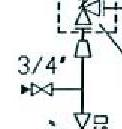psv: (73, 1, 103, 30)
valve: (29, 82, 55, 97)
